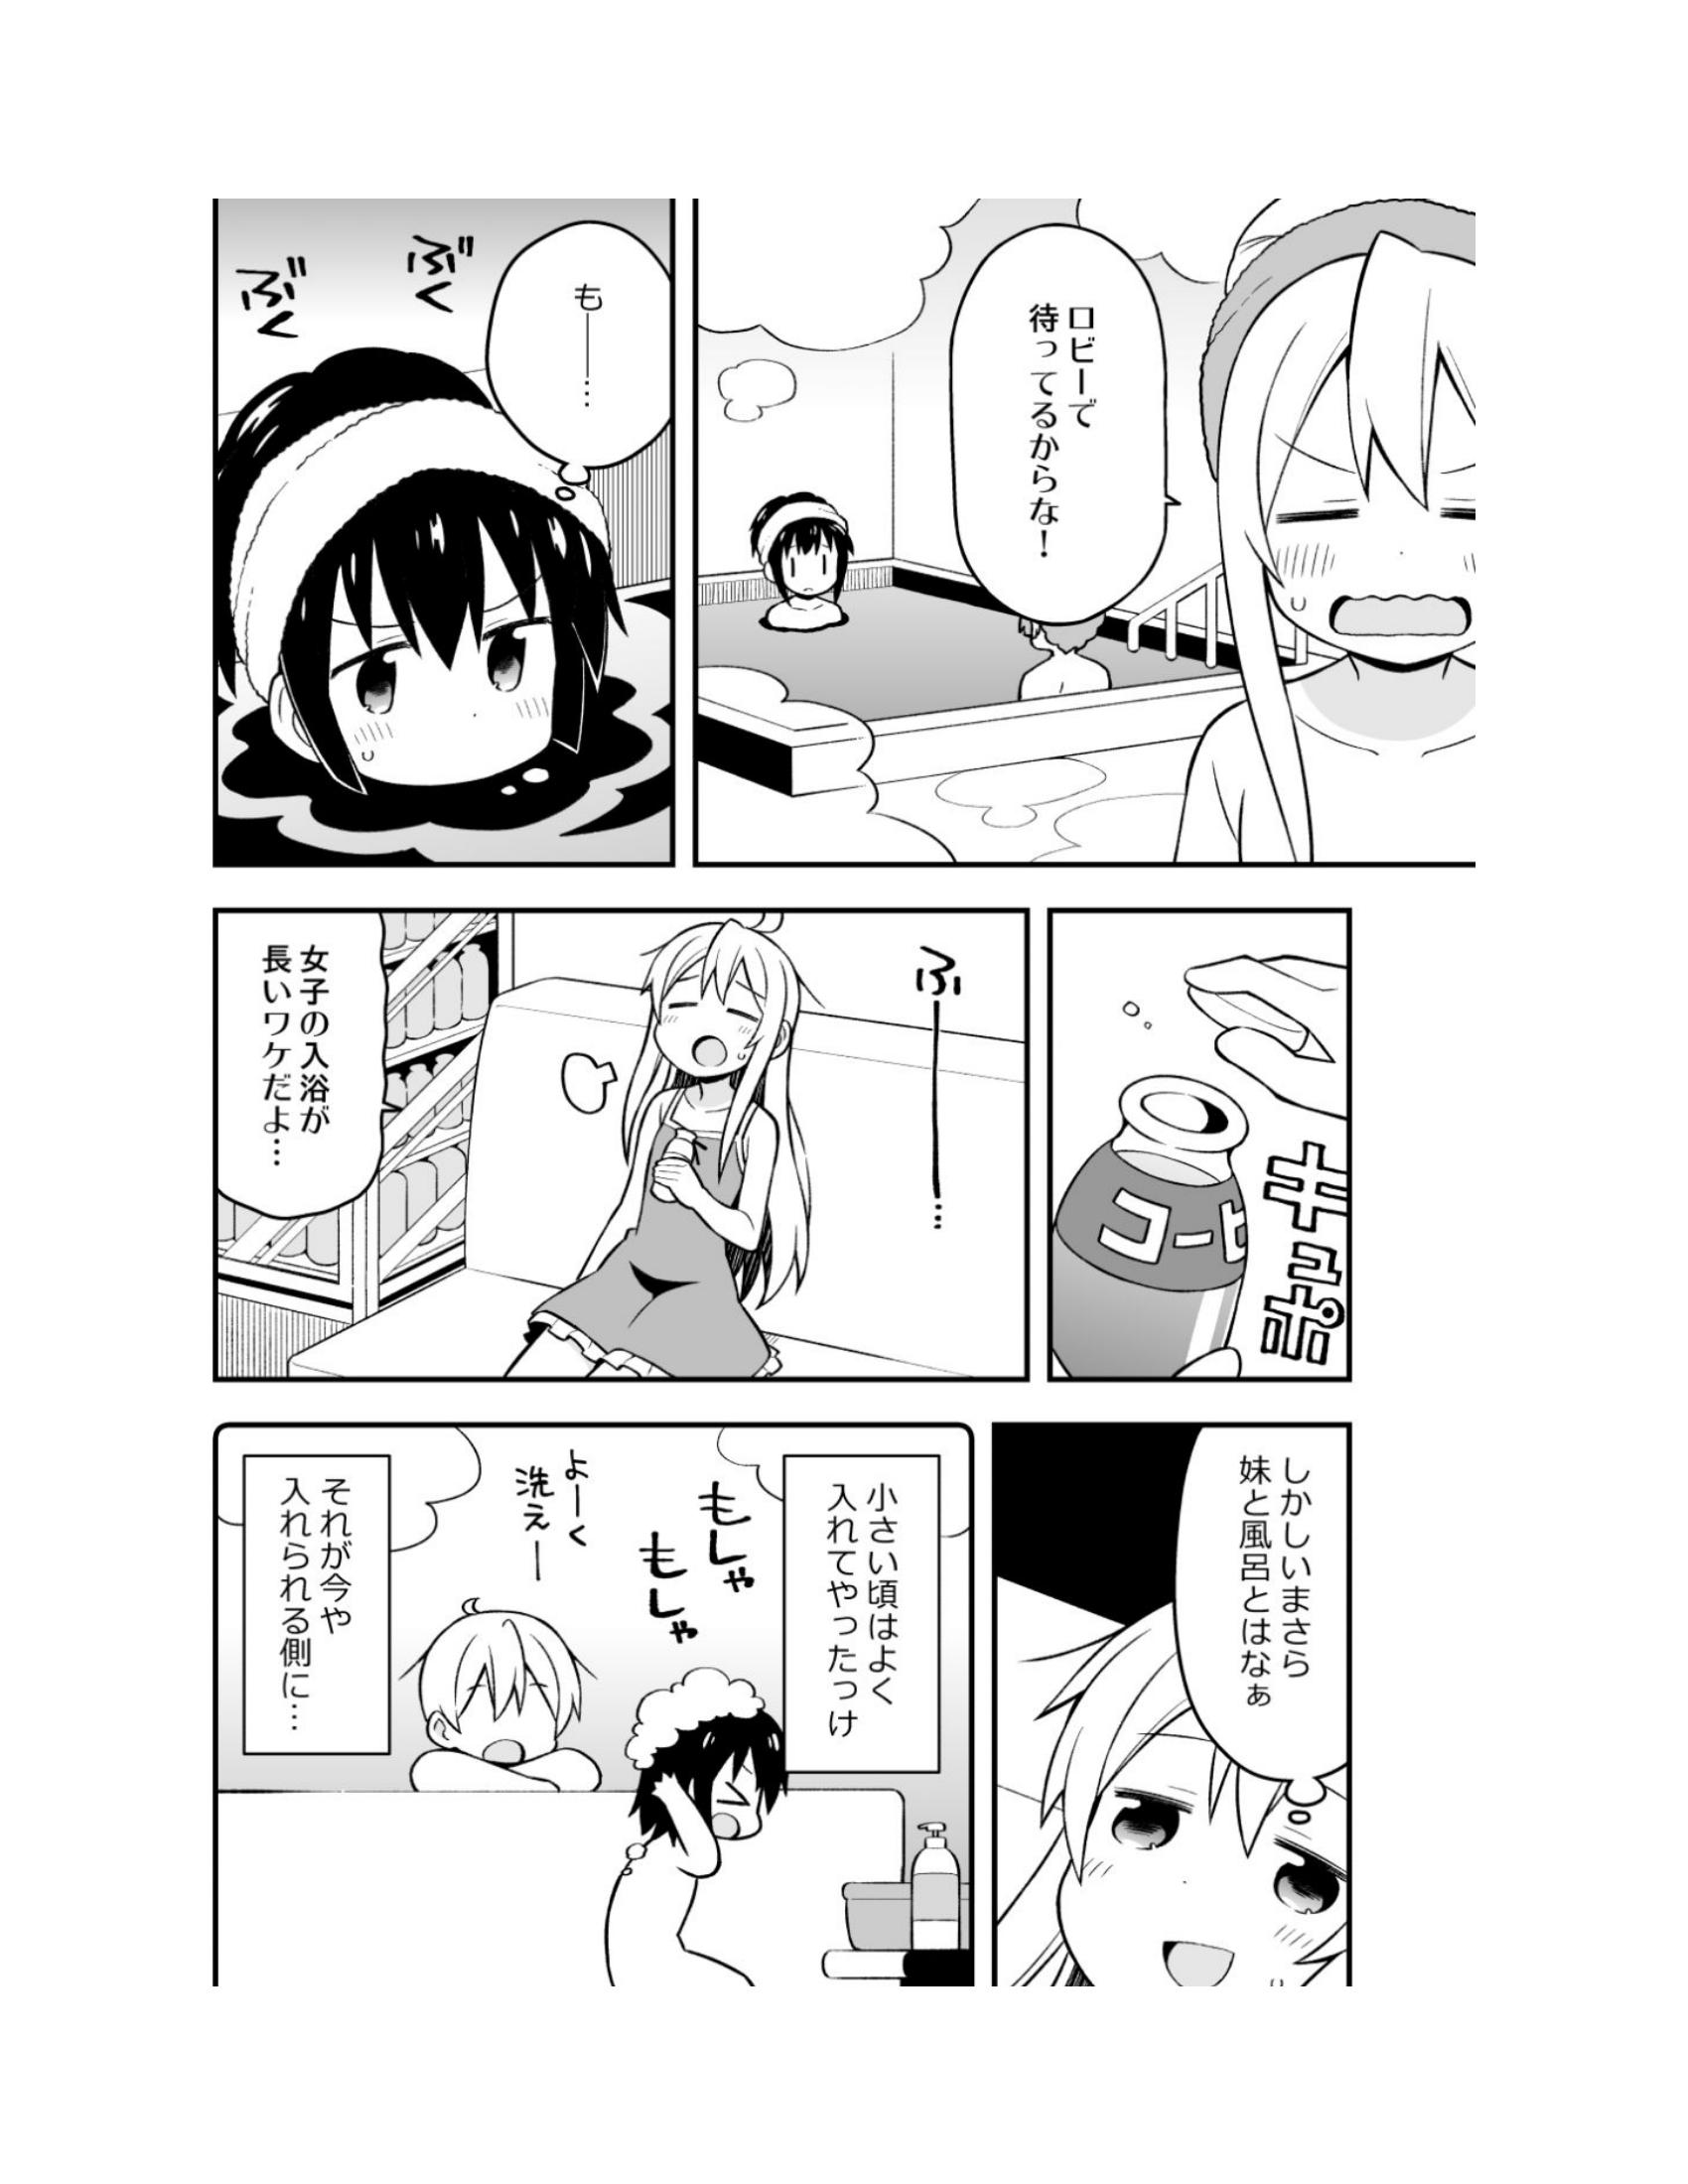a: (931, 213, 1200, 670), (1133, 1420, 1376, 1801), (732, 1431, 975, 1773), (163, 902, 426, 1214), (220, 1434, 426, 1776), (477, 222, 651, 521)
